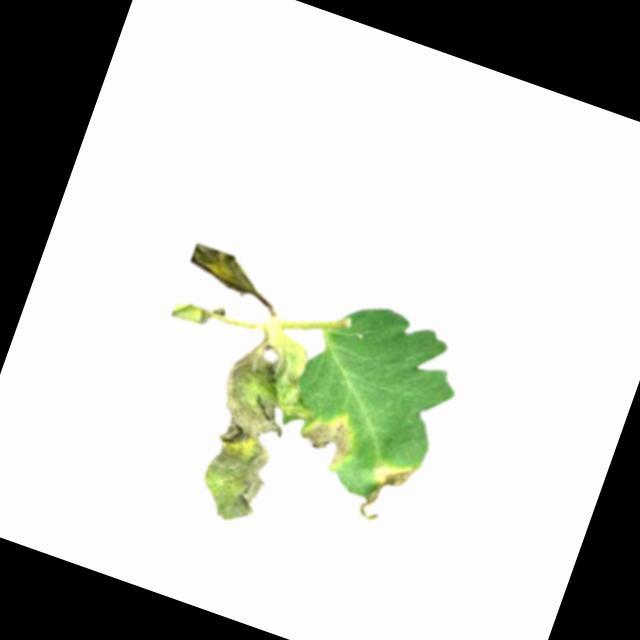Late_blight: (178, 320, 331, 535), (355, 452, 417, 532), (297, 404, 360, 472)
